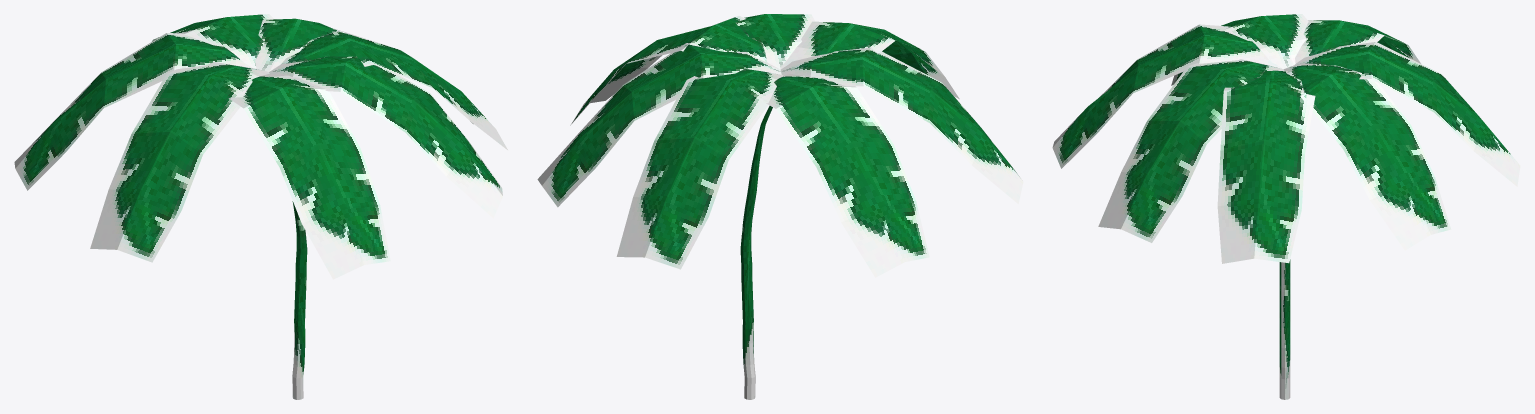
Rendered from Palmera2.fbx.
3 renders of one model, left to right at view 1: azimuth 30°, elevation 25°; view 2: azimuth 150°, elevation 25°; view 3: azimuth 270°, elevation 25°, orthographic. The views are drawn at different scales.
Parts seen in each view (by area): view 1: Leafs, Tallo; view 2: Leafs, Tallo; view 3: Leafs, Tallo.
Boxes of the visible parts, left/top/right/bottom form: Leafs: left=14, top=14, right=507, bottom=279; Tallo: left=292, top=201, right=307, bottom=399; Leafs: left=537, top=14, right=1023, bottom=277; Tallo: left=740, top=106, right=772, bottom=399; Leafs: left=1052, top=14, right=1520, bottom=263; Tallo: left=1279, top=259, right=1290, bottom=399.
Size of the model in its own units: 7.48 by 6.06 by 7.66.
1 material, 1 textured.
